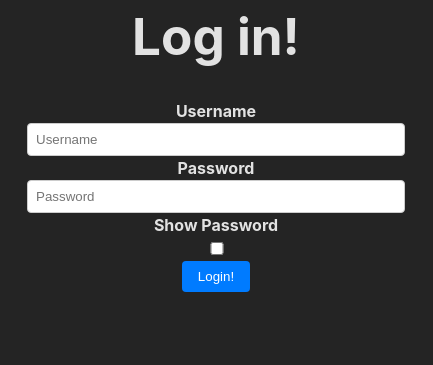
Test: LoginForm component › shows error with invalid credentials
The image size is (433, 365).
Type "testuser" into the field labelled "Username". click: (216, 139)
box: [27,123,405,156]
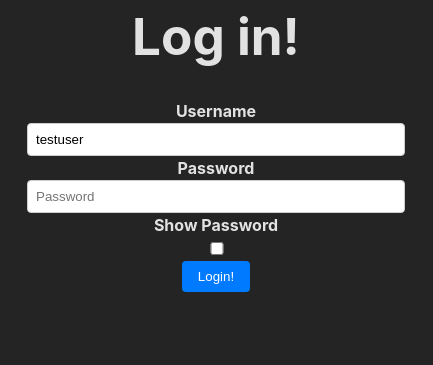
Type "testpassword" into the password field labelled "Password". click: (216, 196)
box: [27,180,405,213]
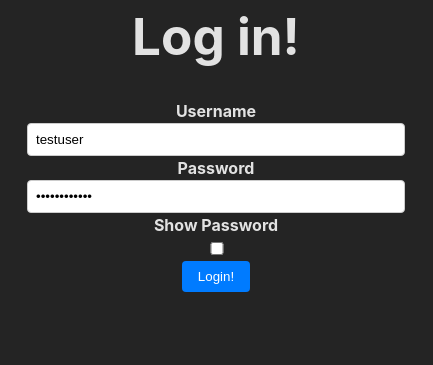
Click the button "Login!". click: (216, 276)
box: [182,261,250,292]
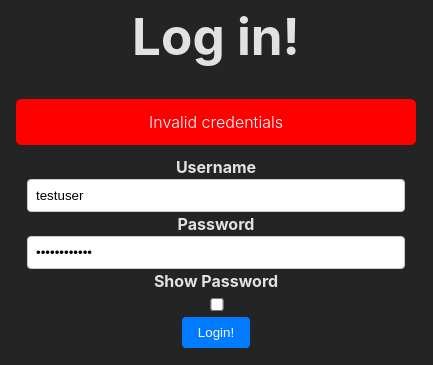
Check: the text "Invalid credentials" is shown, box [16,99,416,145]
